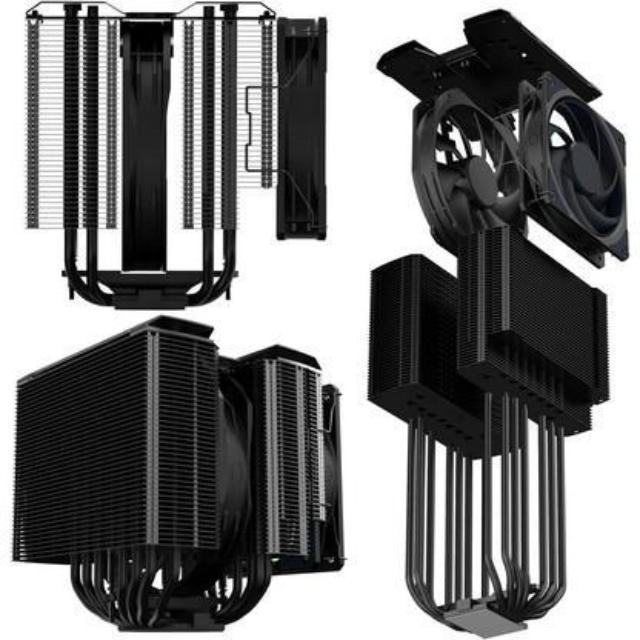CPU_Fan: (0, 328, 348, 640), (22, 3, 330, 311)
